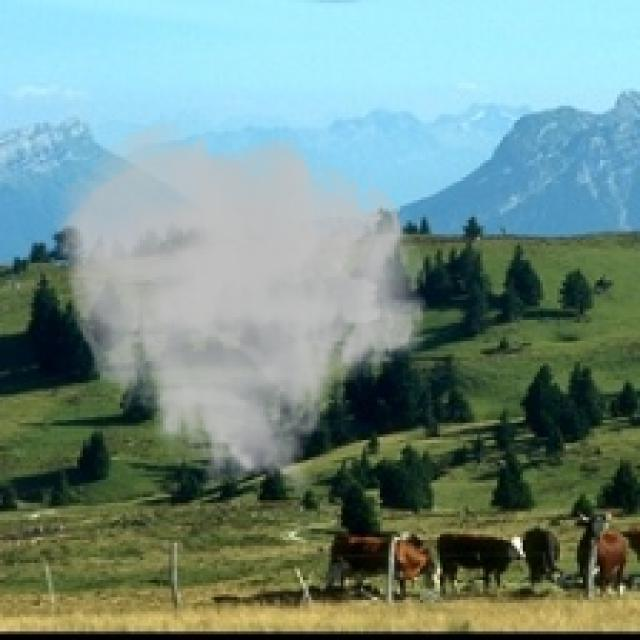smoke: (51, 117, 432, 500)
